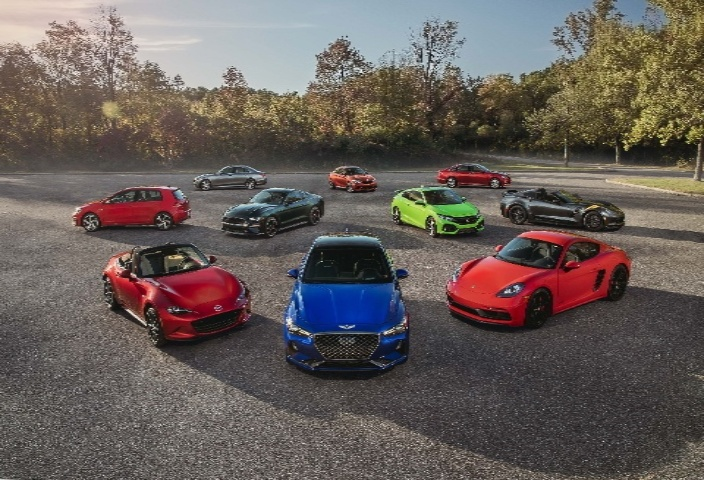car: (438, 220, 644, 348), (285, 224, 418, 377), (94, 236, 256, 355), (496, 184, 631, 240), (380, 179, 489, 243), (65, 182, 202, 232), (218, 188, 332, 246), (191, 157, 271, 197), (438, 156, 512, 190), (328, 162, 379, 200)
